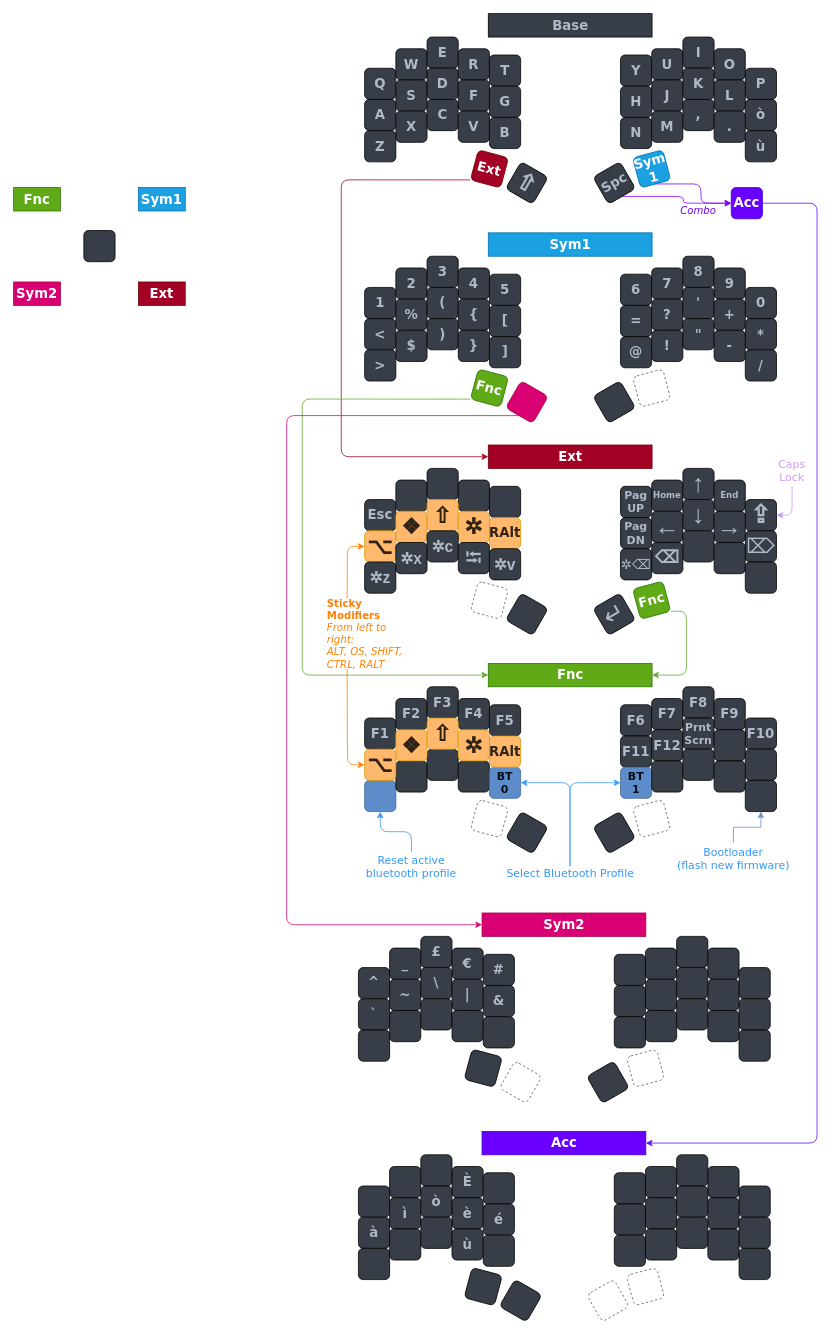
The diagram is 837 pixels wide and 1336 high, and some of its shapes have lost their labels. The centre of each missing label's shape, as x and y in pixels:
"BL" belongs at (x=760, y=796).
"BT RES" belongs at (x=380, y=796).
"Sym 2" belongs at (x=526, y=402).
